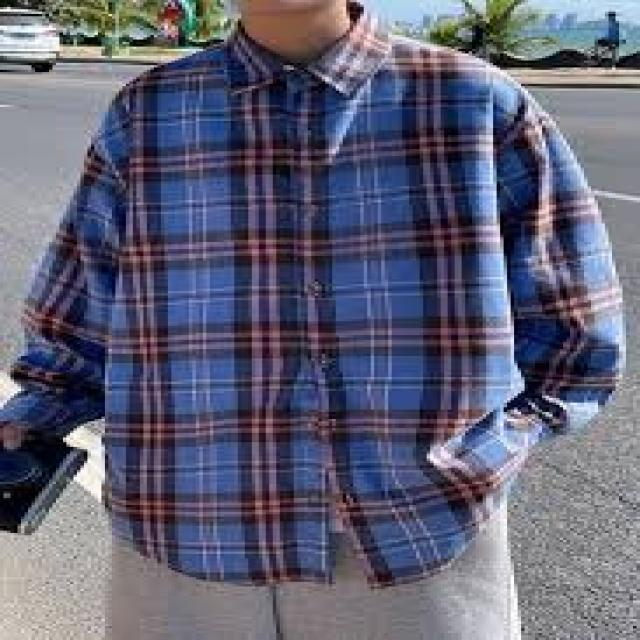plaid: (8, 51, 626, 572)
